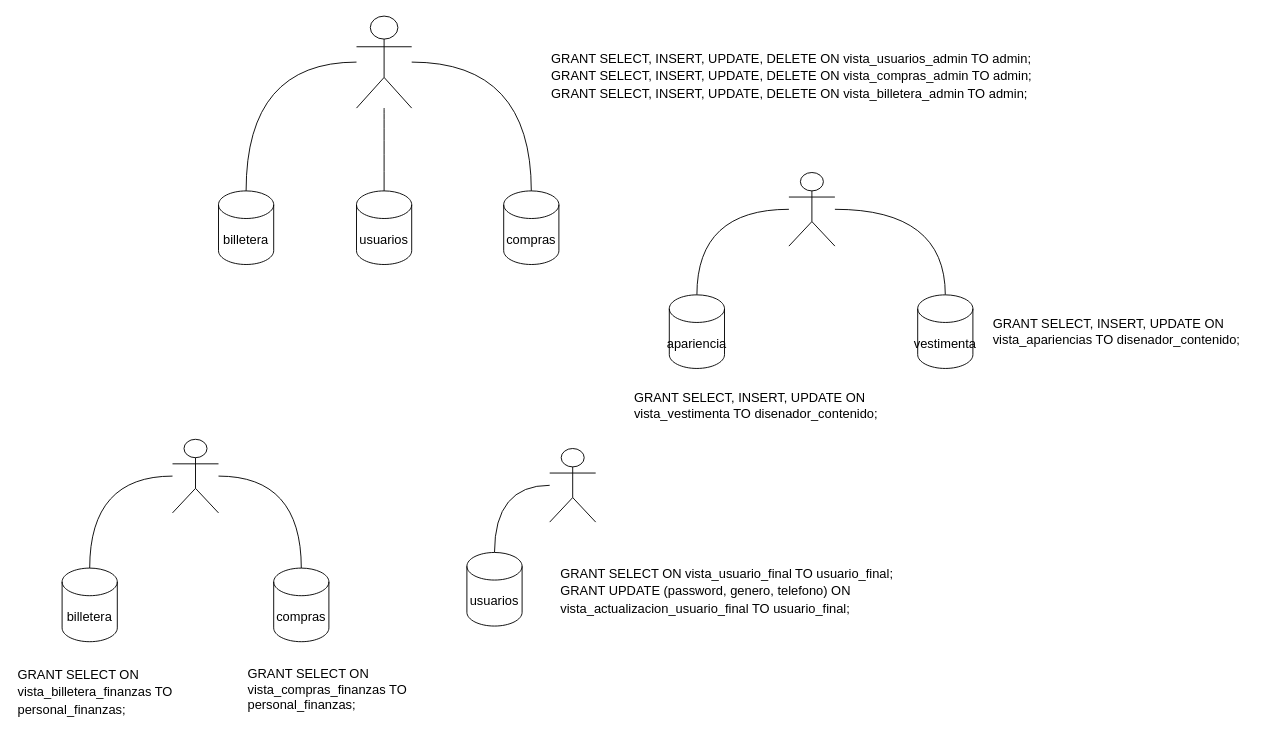
This 1264x735 diagram has some shape labels left out. The shapes that lost their labels are listed below. From the top down, each one's box as (x1, y1, x2, y2) in pixels, then its label:
(356, 15, 412, 108): ADMIN
(788, 172, 835, 246): DISEÑADOR_CONTENIDO
(172, 438, 218, 513): PERSONAL_FINANZAS
(549, 448, 596, 522): USUARIO_FINAL
